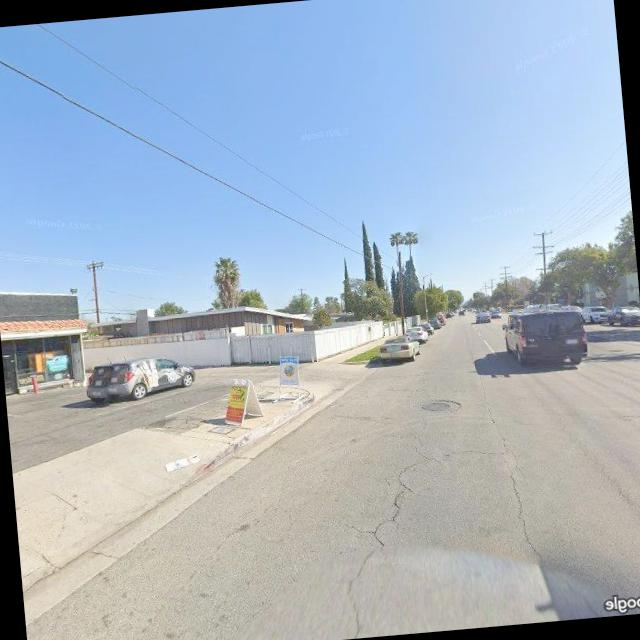pothole: (334, 440, 476, 628), (482, 384, 554, 576)
